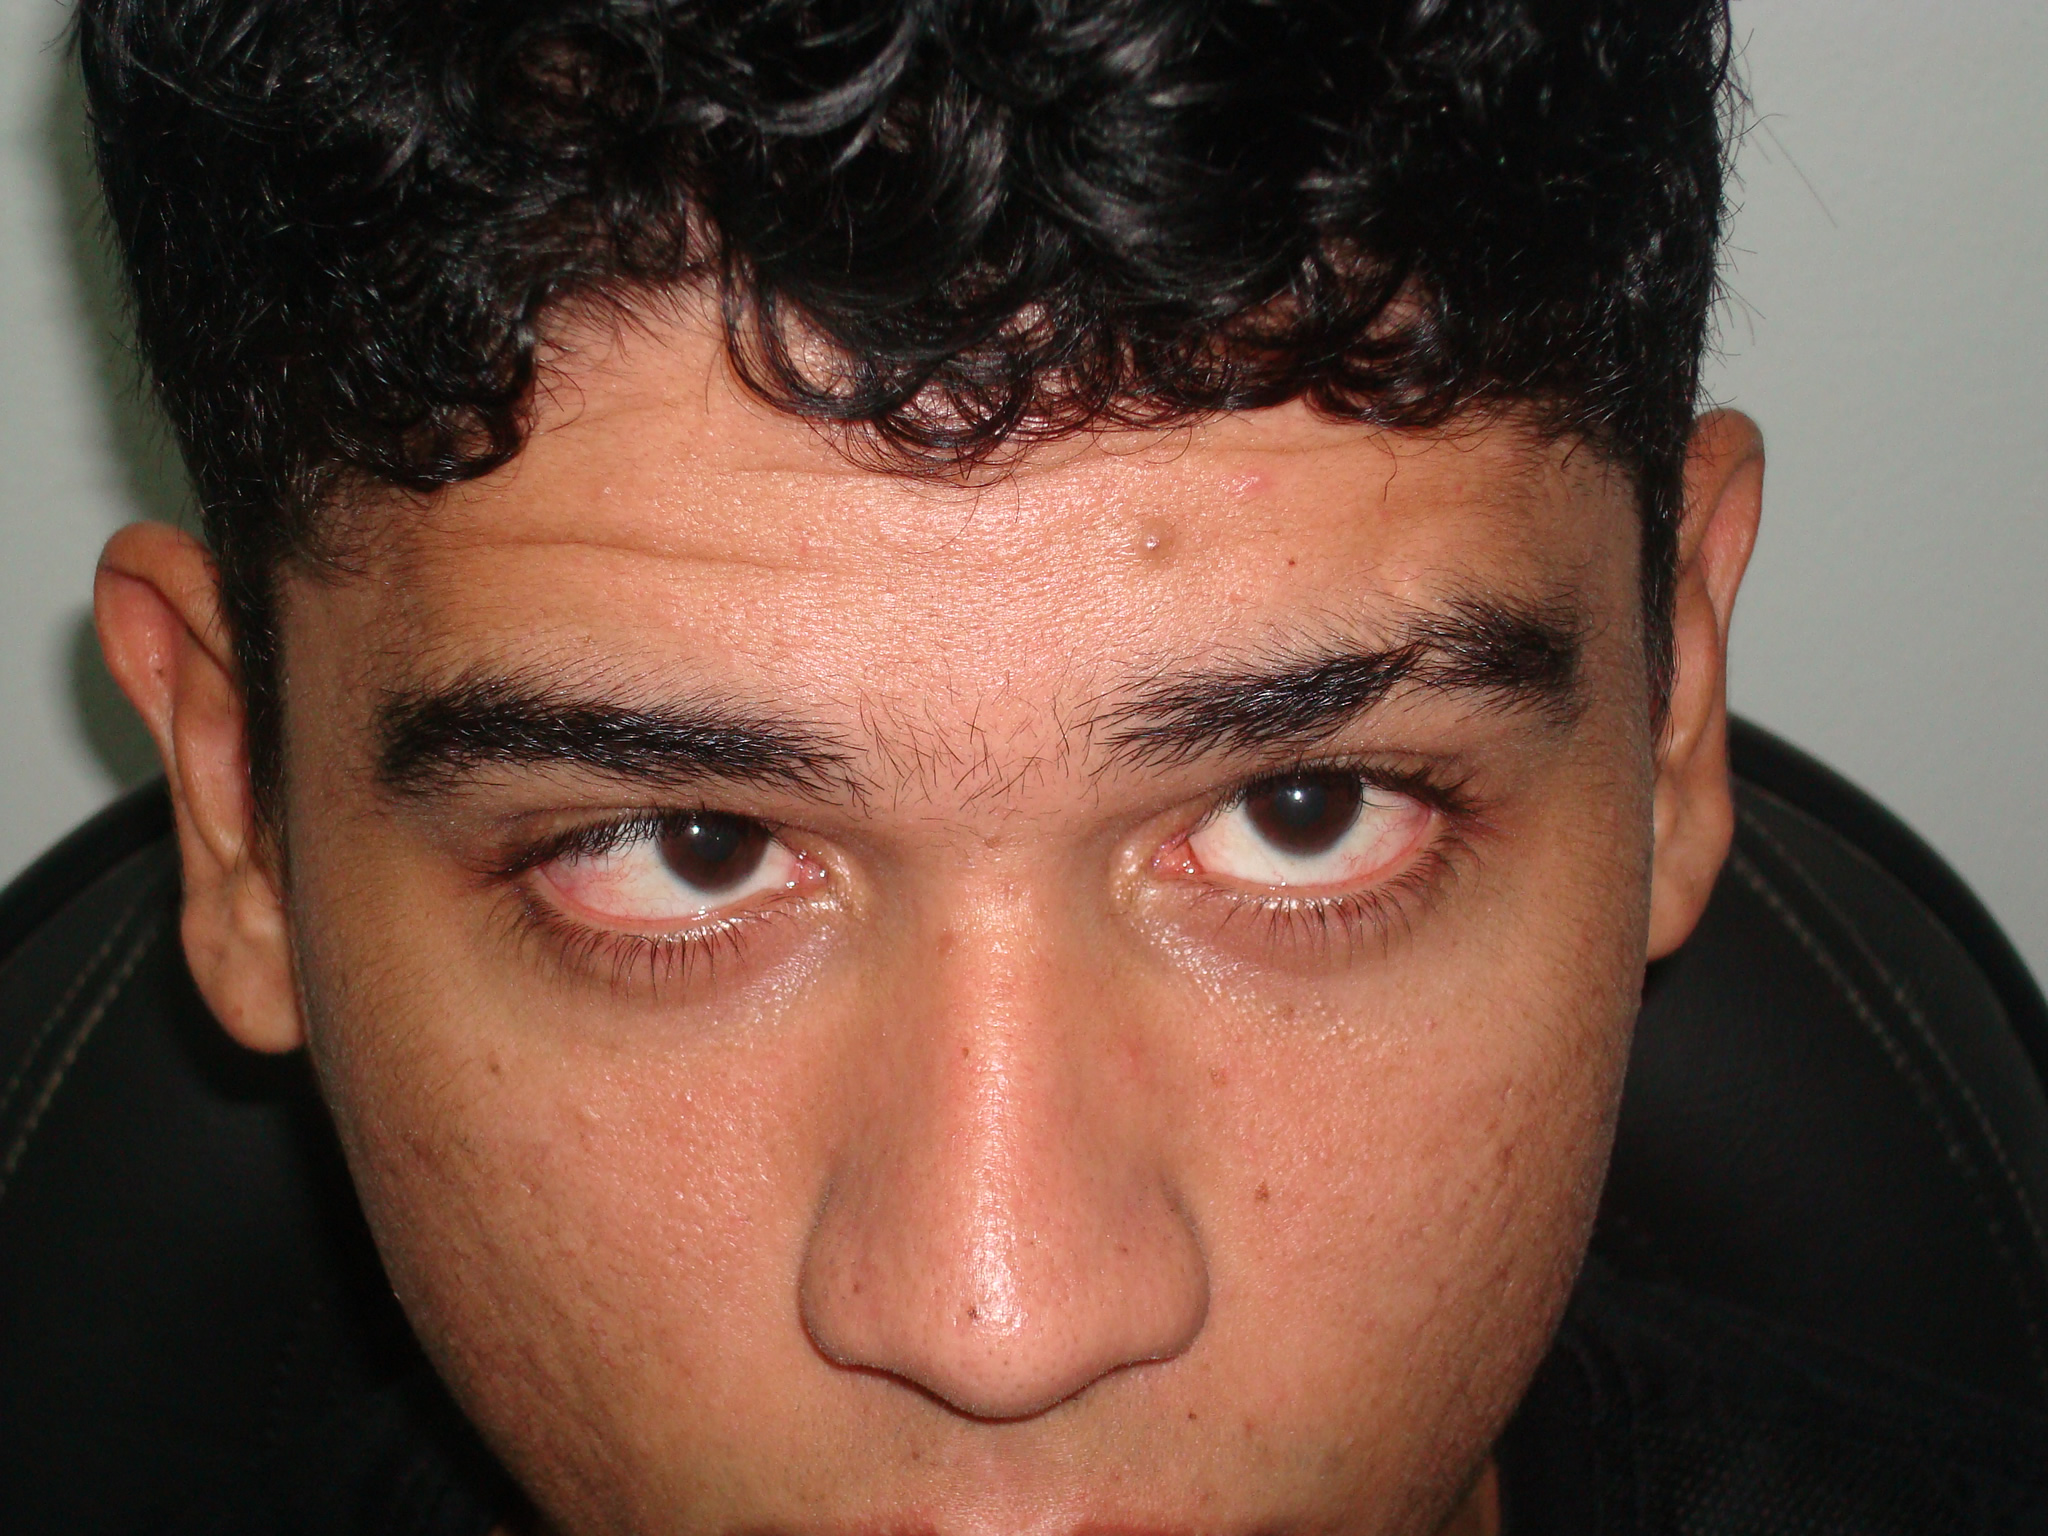flash: (685, 818, 706, 841), (1290, 787, 1306, 803)
limbo: (1238, 747, 1359, 854), (660, 784, 769, 889)
